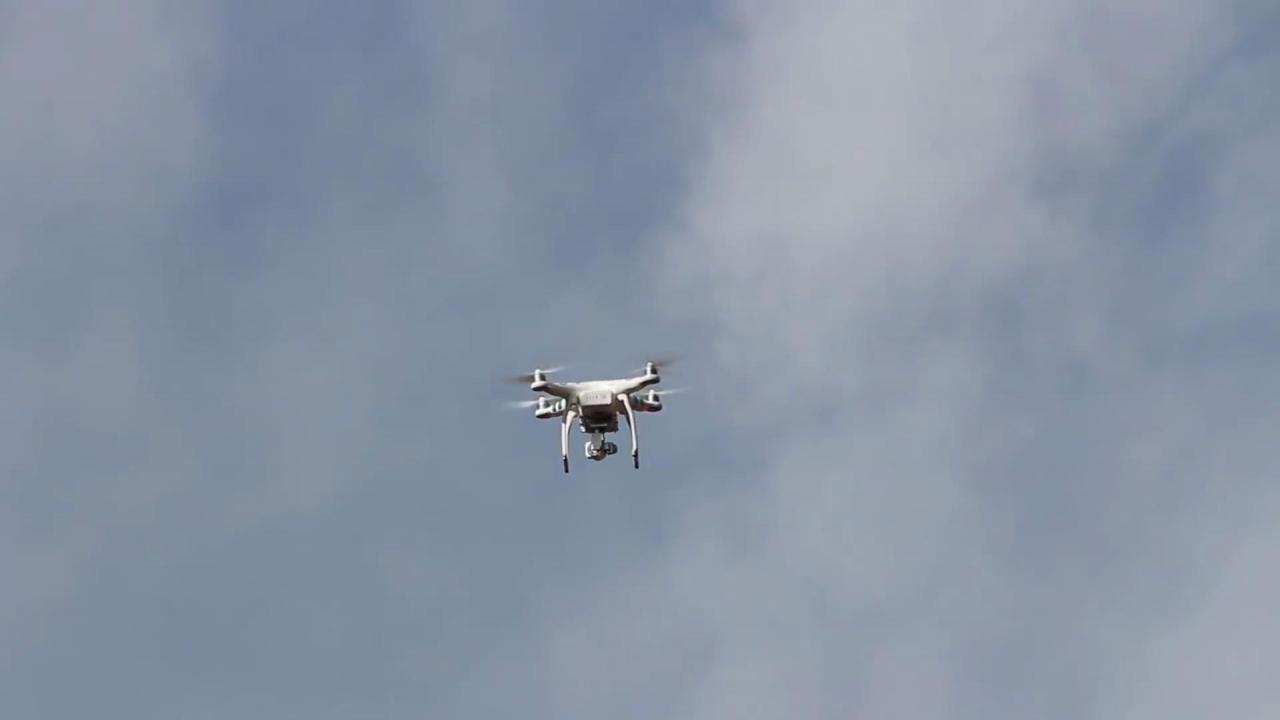Drone: (497, 348, 694, 482)
